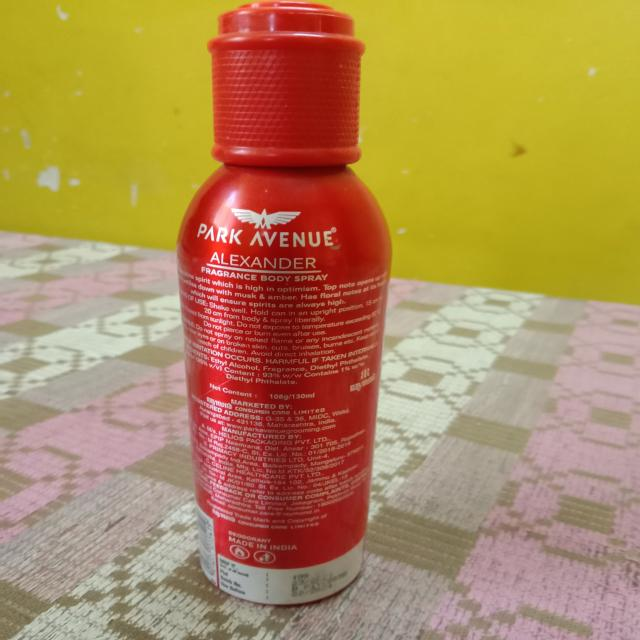deodorant: (177, 0, 374, 598)
